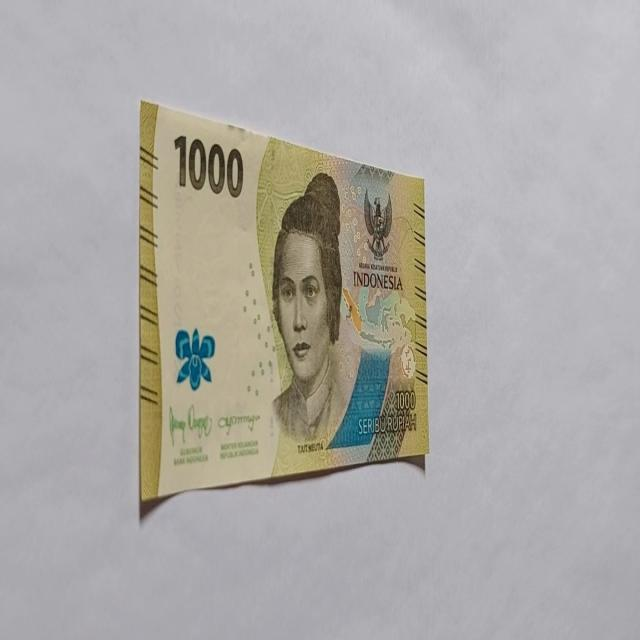seribu rupiah kertas: (138, 98, 428, 510)
